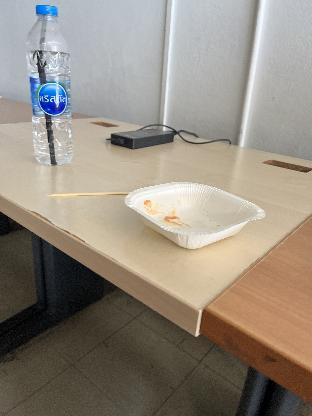Plastic Bottle: (24, 3, 74, 167)
Styrofoam: (122, 175, 266, 250)
